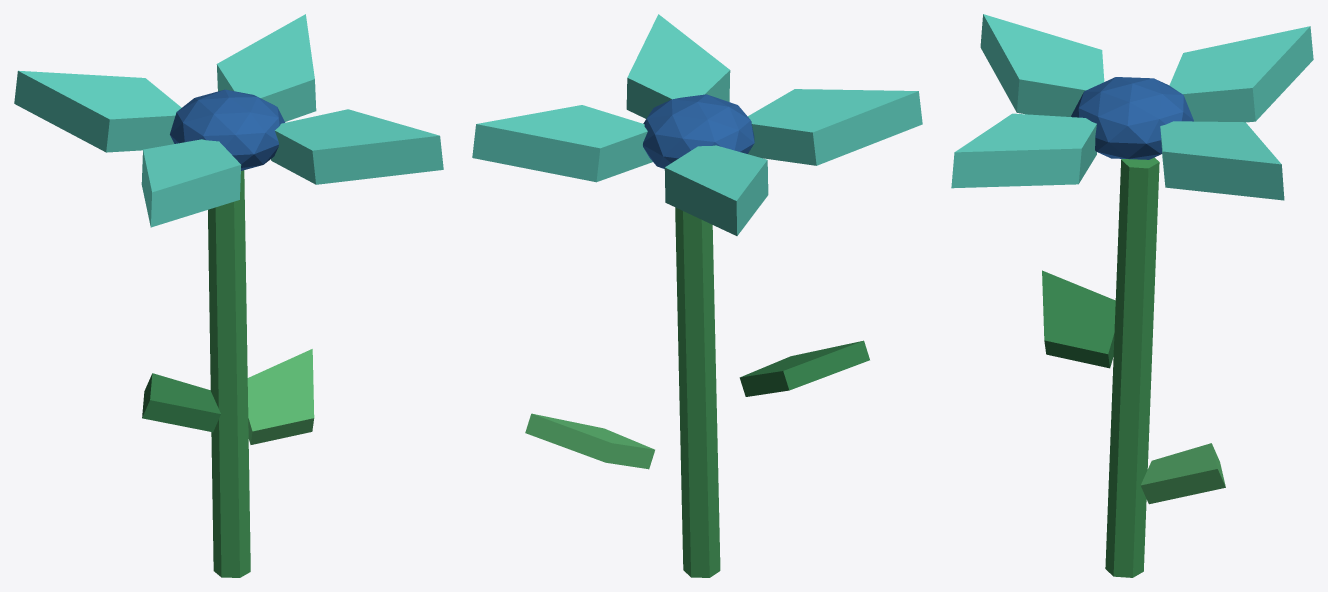
File: MiniFlower_4Petal_Mint.glb
3 renders of one model, left to right at view 1: azimuth 30°, elevation 25°; view 2: azimuth 150°, elevation 25°; view 3: azimuth 270°, elevation 25°, orthographic. The views are drawn at different scales.
Visible parts, largest first — view 1: MiniFlower_4Petal_Mint Stem, MiniFlower_4Petal_Mint Petal 2, MiniFlower_4Petal_Mint Petal 4, MiniFlower_4Petal_Mint Petal 3, MiniFlower_4Petal_Mint Petal 1, MiniFlower_4Petal_Mint Center, MiniFlower_4Petal_Mint Leaf 1, MiniFlower_4Petal_Mint Leaf -1; view 2: MiniFlower_4Petal_Mint Stem, MiniFlower_4Petal_Mint Petal 3, MiniFlower_4Petal_Mint Petal 1, MiniFlower_4Petal_Mint Petal 2, MiniFlower_4Petal_Mint Petal 4, MiniFlower_4Petal_Mint Center, MiniFlower_4Petal_Mint Leaf -1, MiniFlower_4Petal_Mint Leaf 1; view 3: MiniFlower_4Petal_Mint Stem, MiniFlower_4Petal_Mint Petal 2, MiniFlower_4Petal_Mint Petal 4, MiniFlower_4Petal_Mint Petal 3, MiniFlower_4Petal_Mint Petal 1, MiniFlower_4Petal_Mint Center, MiniFlower_4Petal_Mint Leaf -1, MiniFlower_4Petal_Mint Leaf 1.
Part boxes in pixels (bbox=[...]): MiniFlower_4Petal_Mint Stem: bbox=[208, 170, 250, 577]; MiniFlower_4Petal_Mint Petal 2: bbox=[14, 70, 181, 152]; MiniFlower_4Petal_Mint Petal 4: bbox=[271, 109, 443, 184]; MiniFlower_4Petal_Mint Petal 3: bbox=[141, 139, 241, 227]; MiniFlower_4Petal_Mint Petal 1: bbox=[216, 14, 316, 121]; MiniFlower_4Petal_Mint Center: bbox=[170, 89, 285, 170]; MiniFlower_4Petal_Mint Leaf 1: bbox=[247, 349, 314, 444]; MiniFlower_4Petal_Mint Leaf -1: bbox=[142, 373, 220, 432]; MiniFlower_4Petal_Mint Stem: bbox=[675, 207, 720, 577]; MiniFlower_4Petal_Mint Petal 3: bbox=[748, 89, 922, 165]; MiniFlower_4Petal_Mint Petal 1: bbox=[472, 105, 652, 182]; MiniFlower_4Petal_Mint Petal 2: bbox=[664, 145, 768, 235]; MiniFlower_4Petal_Mint Petal 4: bbox=[626, 14, 730, 118]; MiniFlower_4Petal_Mint Center: bbox=[643, 94, 754, 168]; MiniFlower_4Petal_Mint Leaf -1: bbox=[739, 340, 869, 396]; MiniFlower_4Petal_Mint Leaf 1: bbox=[525, 413, 654, 469]; MiniFlower_4Petal_Mint Stem: bbox=[1105, 157, 1159, 577]; MiniFlower_4Petal_Mint Petal 2: bbox=[1169, 26, 1313, 122]; MiniFlower_4Petal_Mint Petal 4: bbox=[951, 113, 1096, 188]; MiniFlower_4Petal_Mint Petal 3: bbox=[980, 14, 1104, 116]; MiniFlower_4Petal_Mint Petal 1: bbox=[1160, 121, 1284, 200]; MiniFlower_4Petal_Mint Center: bbox=[1071, 77, 1193, 159]; MiniFlower_4Petal_Mint Leaf -1: bbox=[1042, 270, 1115, 368]; MiniFlower_4Petal_Mint Leaf 1: bbox=[1140, 443, 1225, 504].
Size of the model in its own units: 0.338 by 0.5021 by 0.338.
